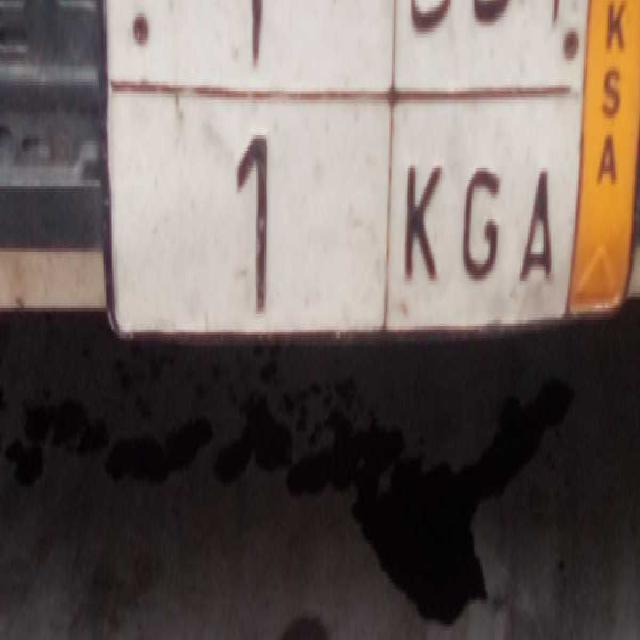license_plate: (109, 79, 578, 329)
